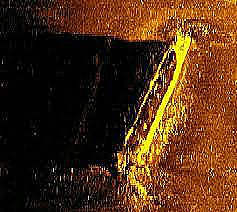ship: (115, 26, 194, 177)
